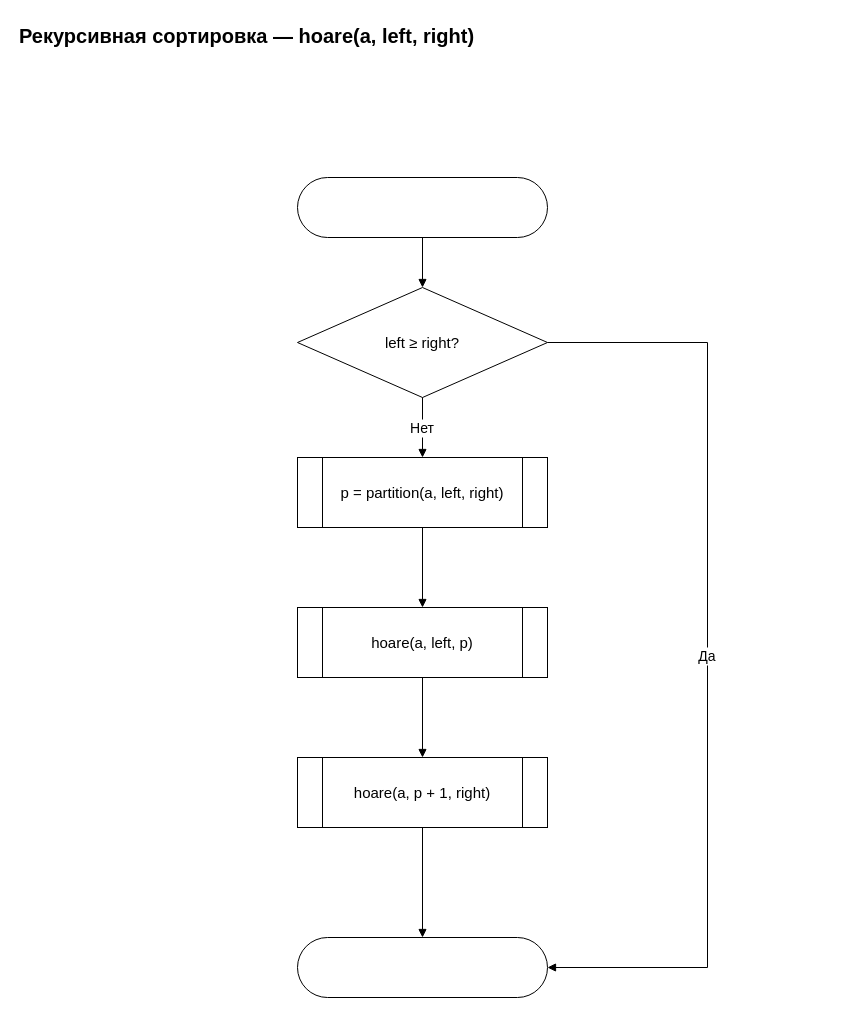
This 854x1015 diagram has some shape labels left out. Here are the shapes that lost their labels. From the top down, the centre of each, then its label:
the point at 422,207: Начало вызова hoare
the point at 422,967: Возврат из текущего вызова
